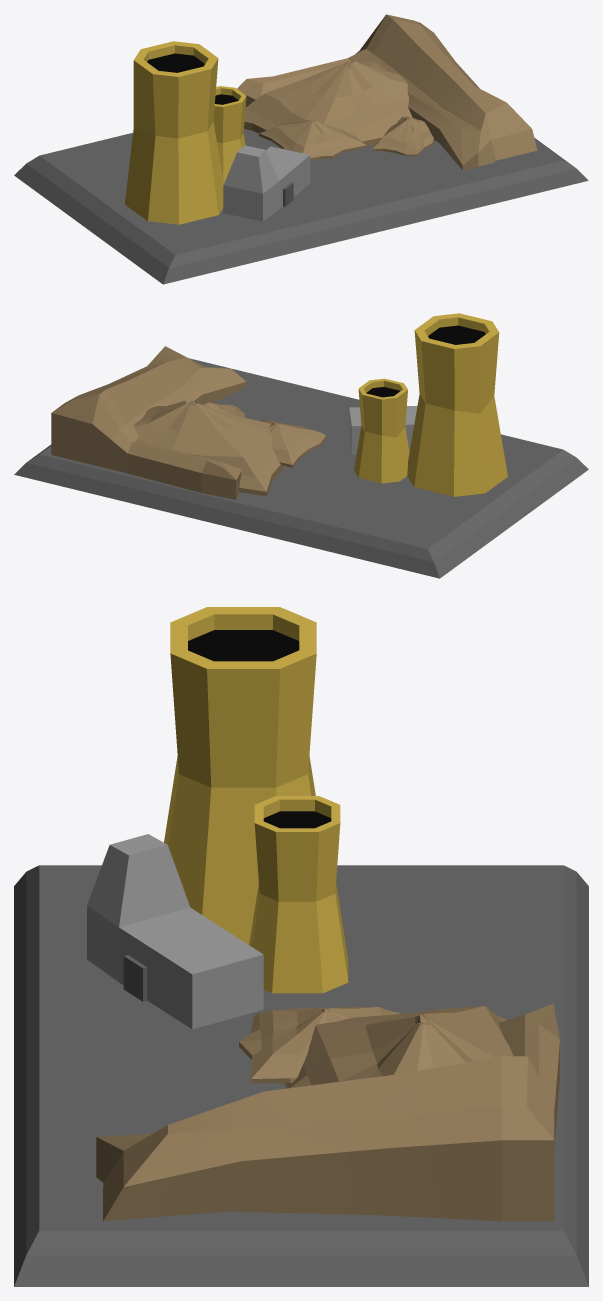
The model's file is coal_mine_var2_model.fbx.
The picture shows the model from 3 angles, top to bottom: view 1: azimuth 30°, elevation 25°; view 2: azimuth 150°, elevation 25°; view 3: azimuth 270°, elevation 25°; orthographic projection. The views are drawn at different scales.
Parts seen in each view (by area): view 1: polySurface14; view 2: polySurface14; view 3: polySurface14.
Part boxes in pixels (bbox=[...]): polySurface14: bbox=[14, 14, 588, 284]; polySurface14: bbox=[14, 313, 588, 578]; polySurface14: bbox=[14, 607, 588, 1286].
Bounding box in the file's own units: 20.8 × 7.66 × 12.62.
Materials: 1 (1 with a texture image).
